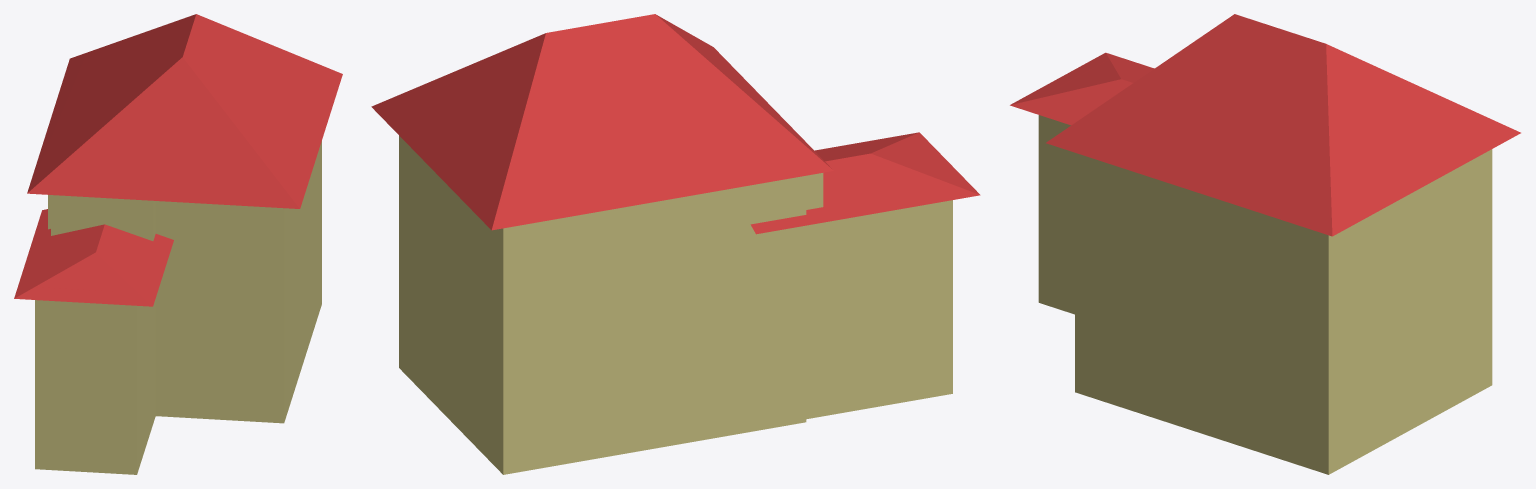
3 views of the same model, side by side, from view 1: azimuth 30°, elevation 25°; view 2: azimuth 150°, elevation 25°; view 3: azimuth 270°, elevation 25° (orthographic). The views are drawn at different scales.
Parts seen in each view (by area): view 1: group_7, group_9, group_5, group_3, group_8, group_4; view 2: group_9, group_7, group_5, group_8, group_3, group_4; view 3: group_9, group_7, group_5, group_8, group_3, group_4.
Boxes of the visible parts, bbox=[...] form: group_7: bbox=[48, 14, 342, 208]; group_9: bbox=[48, 141, 321, 423]; group_5: bbox=[35, 240, 174, 474]; group_3: bbox=[14, 209, 152, 306]; group_8: bbox=[27, 52, 342, 194]; group_4: bbox=[14, 210, 173, 306]; group_9: bbox=[399, 136, 823, 474]; group_7: bbox=[371, 14, 821, 228]; group_5: bbox=[750, 200, 952, 431]; group_8: bbox=[372, 107, 833, 230]; group_3: bbox=[750, 132, 980, 234]; group_4: bbox=[752, 132, 978, 233]; group_9: bbox=[1075, 149, 1492, 474]; group_7: bbox=[1046, 14, 1487, 236]; group_5: bbox=[1038, 115, 1074, 314]; group_8: bbox=[1217, 118, 1520, 235]; group_3: bbox=[1010, 52, 1154, 113]; group_4: bbox=[1010, 54, 1149, 125].
Bounding box in the file's own units: 20 × 18.37 × 14.31.
